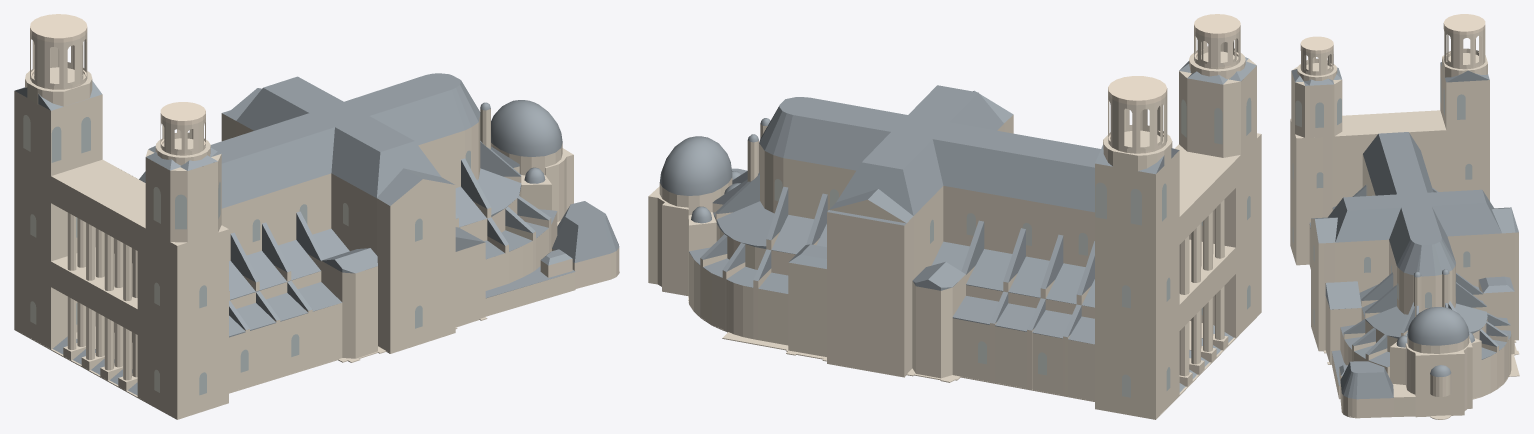
Rendered from detail.glb.
3 views of the same model, side by side, from view 1: azimuth 30°, elevation 25°; view 2: azimuth 150°, elevation 25°; view 3: azimuth 270°, elevation 25° (orthographic). The views are drawn at different scales.
Parts seen in each view (by area): view 1: stone, roof, window, trim; view 2: stone, roof, window, trim; view 3: stone, roof, window, trim.
Boxes of the visible parts, box(x1,y1,x2,y2) form: stone: box(14, 32, 619, 419); roof: box(15, 73, 619, 395); window: box(23, 115, 470, 395); trim: box(30, 14, 205, 155); stone: box(648, 29, 1261, 419); roof: box(659, 57, 1256, 392); window: box(774, 97, 1251, 397); trim: box(1108, 14, 1240, 153); stone: box(1290, 26, 1519, 419); roof: box(1291, 62, 1518, 399); window: box(1292, 77, 1472, 325); trim: box(1300, 14, 1485, 75).
Size of the model in its own units: 125 by 70.3 by 65.58.
